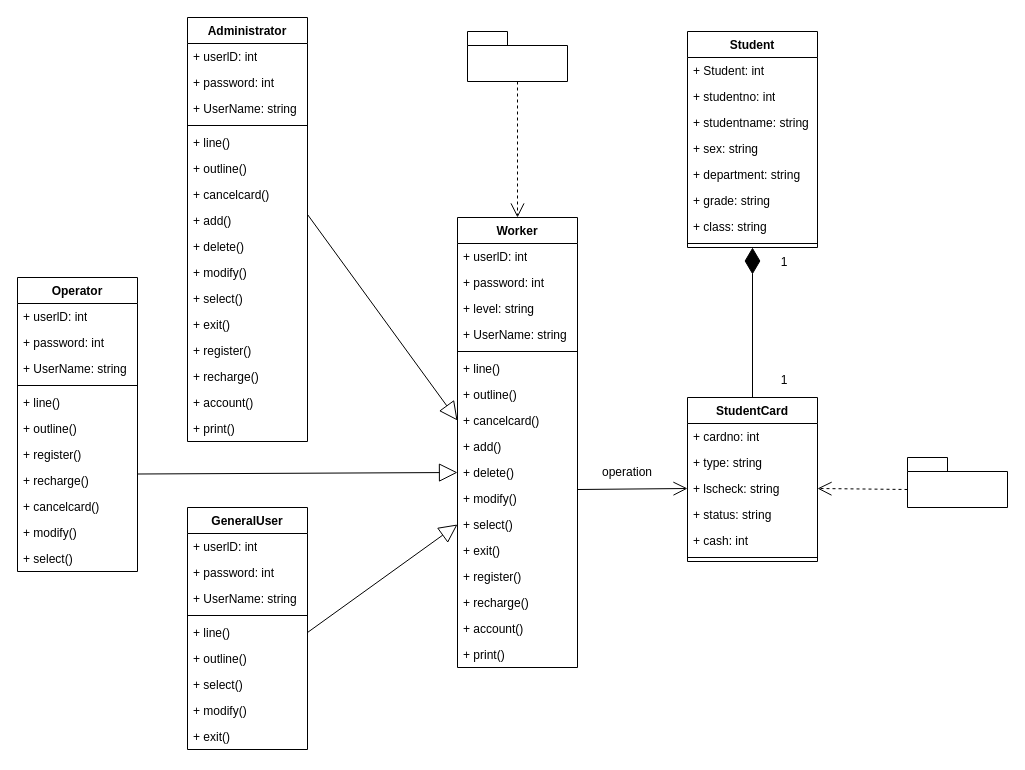
Image size: 1025x770. Some labels were removed from this diagram. Each missing label, with the centre of its shape:
"Studentrecords" belongs at (957,482).
"WorkerRecords" belongs at (517,56).
